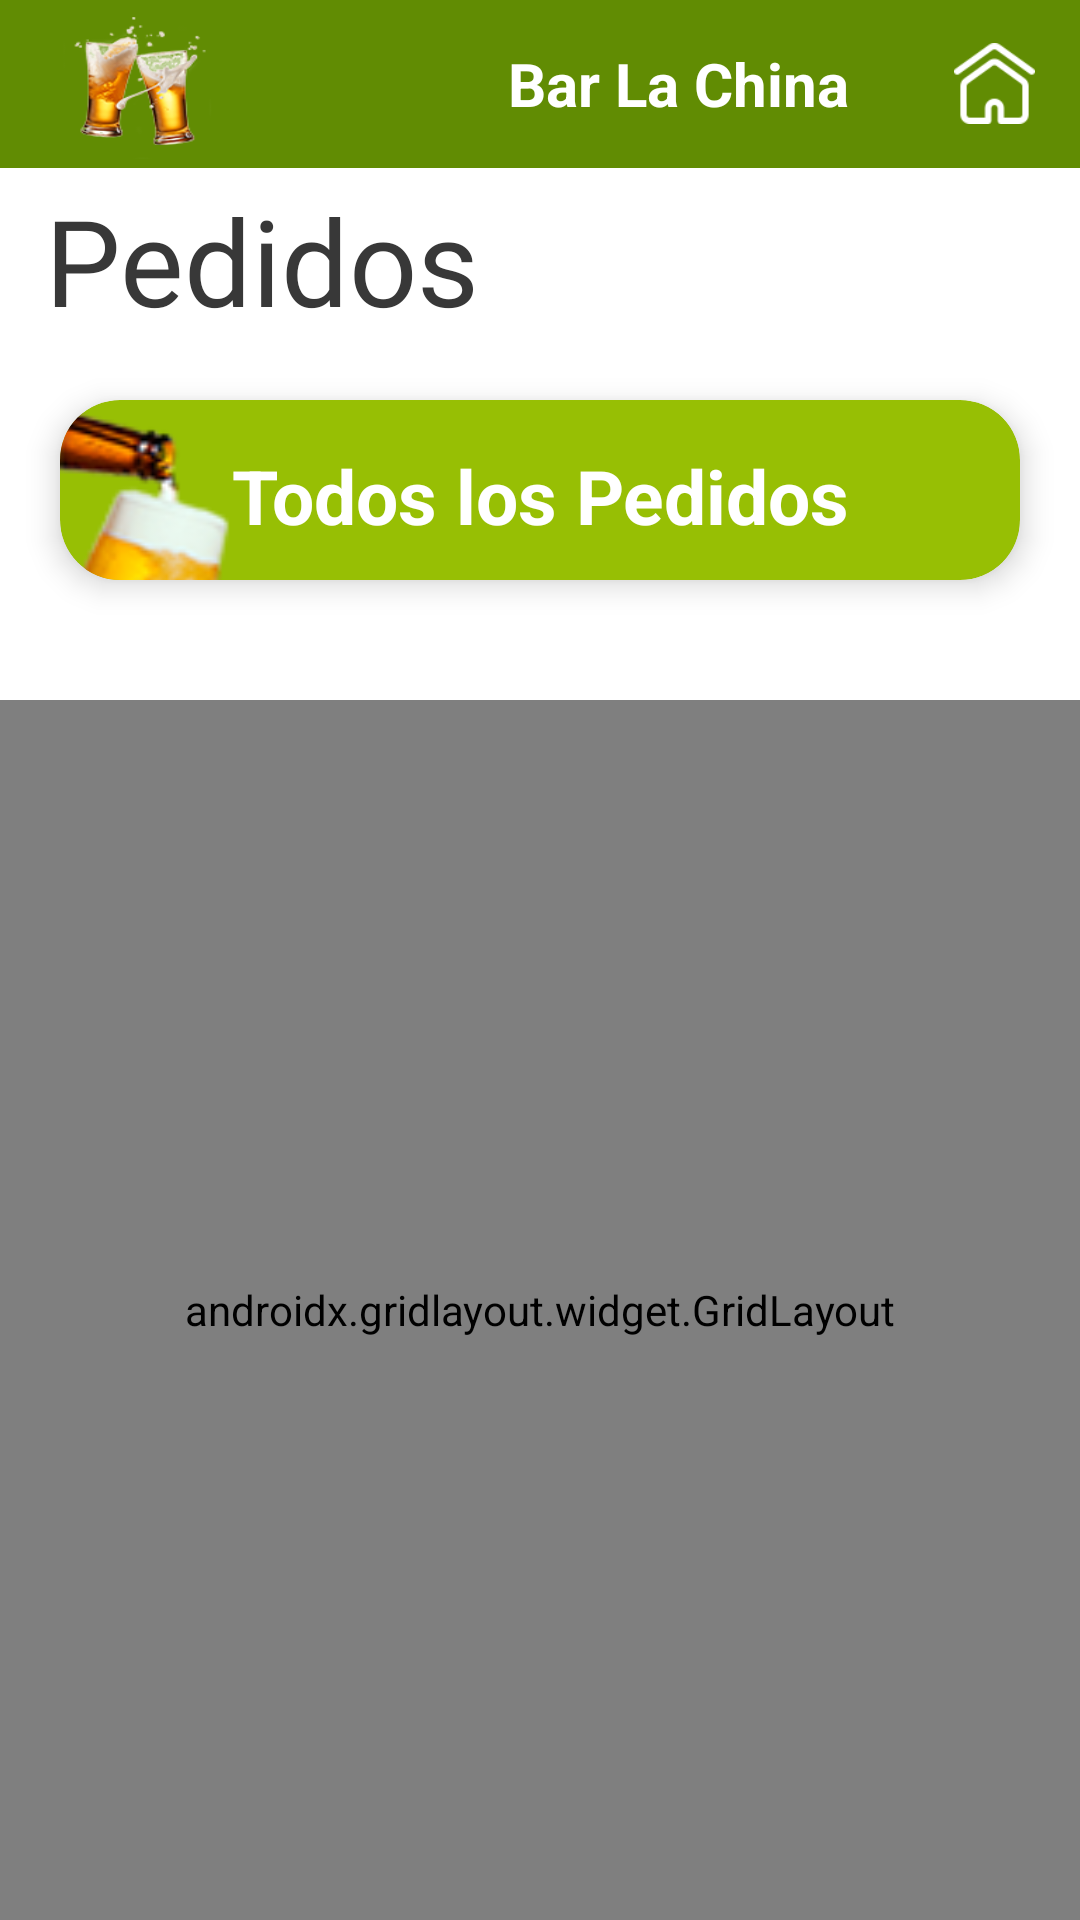

Screen size 1080 x 1920. Icon name, then its box in pixels as (x1, y1, x2, y2):
home: (954, 43, 1035, 124)
